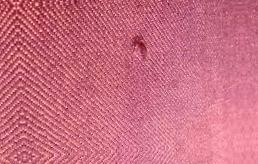knot: (127, 33, 155, 63)
